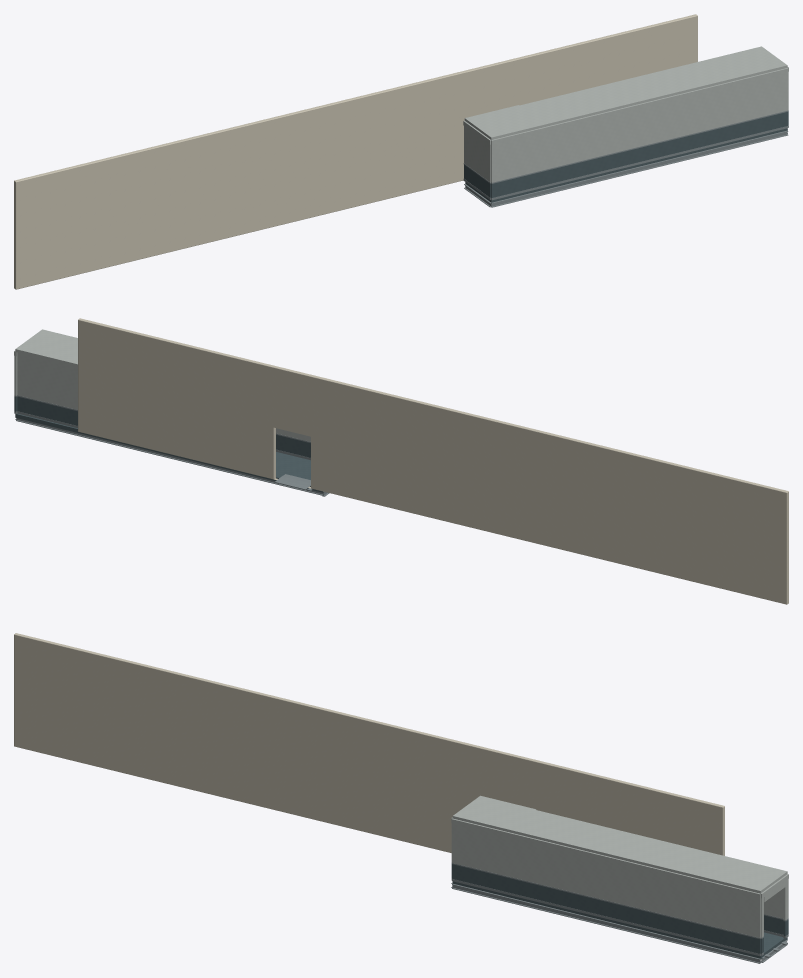
File: SOUND_SERVICE_RECEIVER_r001.glb
3 renders of one model, top to bottom at view 1: azimuth 30°, elevation 25°; view 2: azimuth 150°, elevation 25°; view 3: azimuth 330°, elevation 25°, orthographic. The views are drawn at different scales.
Visible parts, largest first — view 1: ISR_SUCCESSOR_E_outer_north, ISR_BATCH_002, ISR_BATCH_000, ISR_BATCH_003; view 2: ISR_SUCCESSOR_E_outer_north, ISR_BATCH_002, ISR_BATCH_000, ISR_BATCH_003; view 3: ISR_SUCCESSOR_E_outer_north, ISR_BATCH_002, ISR_BATCH_000, ISR_BATCH_003.
Part boxes in pixels (x1=…): ISR_SUCCESSOR_E_outer_north: x1=14, y1=14, x2=697, y2=289; ISR_BATCH_002: x1=463, y1=46, x2=788, y2=182; ISR_BATCH_000: x1=464, y1=111, x2=788, y2=202; ISR_BATCH_003: x1=463, y1=110, x2=788, y2=207; ISR_SUCCESSOR_E_outer_north: x1=78, y1=318, x2=788, y2=604; ISR_BATCH_002: x1=14, y1=329, x2=310, y2=441; ISR_BATCH_000: x1=14, y1=396, x2=323, y2=492; ISR_BATCH_003: x1=14, y1=395, x2=329, y2=496; ISR_SUCCESSOR_E_outer_north: x1=14, y1=633, x2=724, y2=855; ISR_BATCH_002: x1=451, y1=795, x2=788, y2=937; ISR_BATCH_000: x1=451, y1=863, x2=788, y2=959; ISR_BATCH_003: x1=451, y1=862, x2=788, y2=963.
Size of the model in its own units: 50.1 by 7.36 by 3.64.
7 materials, 6 textured.
